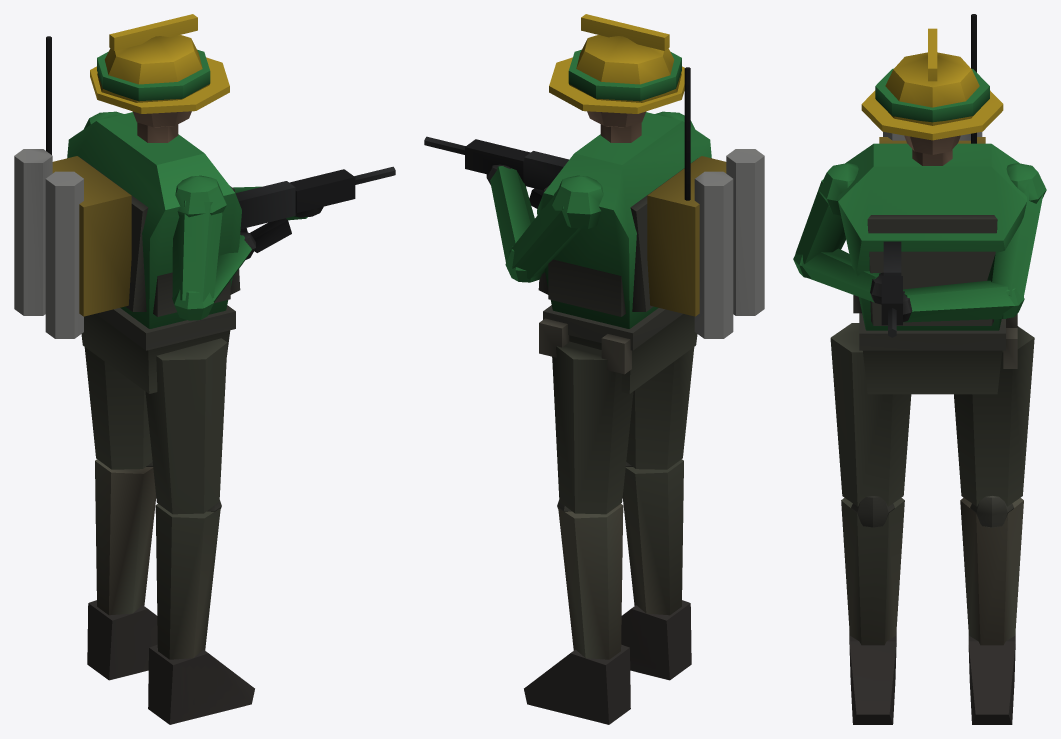
The model's file is u_engineer_lod1.glb.
3 views of the same model, side by side, from view 1: azimuth 30°, elevation 25°; view 2: azimuth 150°, elevation 25°; view 3: azimuth 270°, elevation 25° (orthographic). The views are drawn at different scales.
Parts seen in each view (by area): view 1: Engineer_LOD1_Walls, Engineer_LOD1_Details, Engineer_LOD1_shL, Engineer_LOD1_shR, Engineer_LOD1_thL, Engineer_LOD1_thR; view 2: Engineer_LOD1_Walls, Engineer_LOD1_Details, Engineer_LOD1_shR, Engineer_LOD1_shL, Engineer_LOD1_thR, Engineer_LOD1_thL; view 3: Engineer_LOD1_Walls, Engineer_LOD1_shL, Engineer_LOD1_shR, Engineer_LOD1_thL, Engineer_LOD1_thR, Engineer_LOD1_Details.
Part boxes in pixels (box(x1,y1,x2,y2)): Engineer_LOD1_Walls: box(52, 35, 395, 393); Engineer_LOD1_Details: box(14, 14, 235, 350); Engineer_LOD1_shL: box(148, 500, 254, 724); Engineer_LOD1_shR: box(87, 459, 157, 680); Engineer_LOD1_thL: box(145, 338, 227, 514); Engineer_LOD1_thR: box(84, 347, 152, 469); Engineer_LOD1_Walls: box(424, 35, 726, 393); Engineer_LOD1_Details: box(539, 14, 764, 374); Engineer_LOD1_shR: box(524, 500, 630, 724); Engineer_LOD1_shL: box(621, 459, 691, 680); Engineer_LOD1_thR: box(552, 341, 633, 514); Engineer_LOD1_thL: box(626, 347, 694, 469); Engineer_LOD1_Walls: box(793, 52, 1046, 394); Engineer_LOD1_shL: box(841, 496, 904, 724); Engineer_LOD1_shR: box(960, 496, 1023, 724); Engineer_LOD1_thL: box(830, 323, 911, 506); Engineer_LOD1_thR: box(954, 326, 1034, 506); Engineer_LOD1_Details: box(859, 14, 1017, 368).
Bounding box in the file's own units: 0.3239 × 0.606 × 0.2147.
